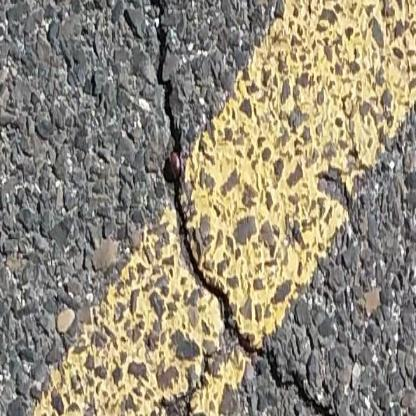Cracks: (69, 242, 416, 416), (111, 0, 224, 278)
